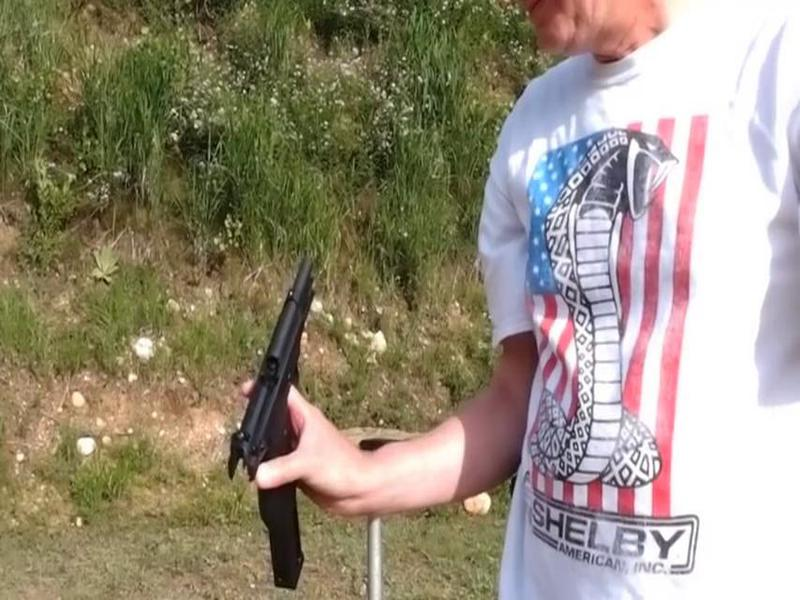Pistola: (207, 243, 365, 599)
